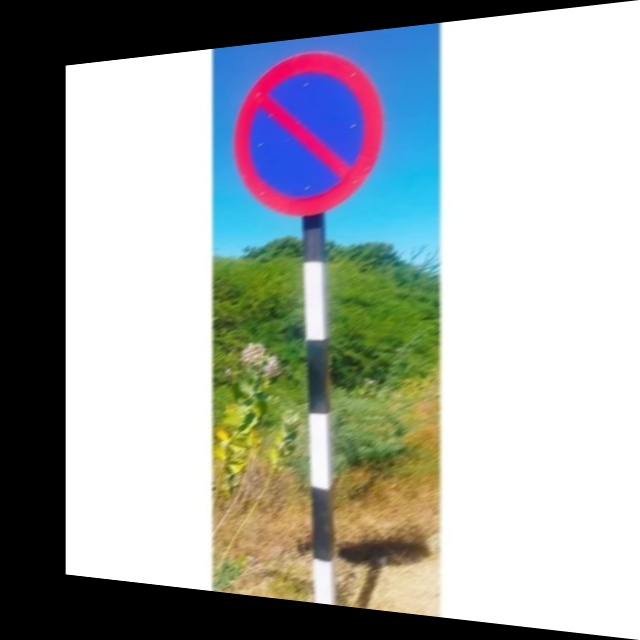No_Stopping_or_Standing: (241, 46, 376, 216)
